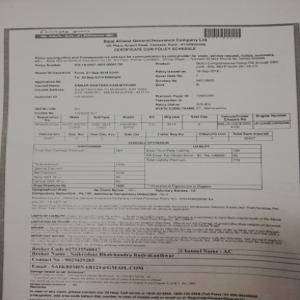image: (32, 27, 123, 38)
table: (30, 140, 263, 189), (36, 108, 292, 130), (33, 126, 273, 142)
text: (31, 190, 288, 247), (33, 53, 282, 105), (100, 37, 213, 54)
